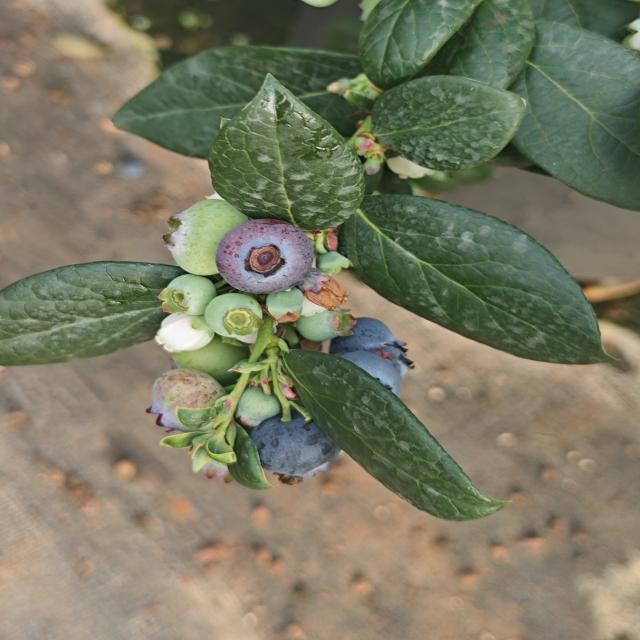ripe: (213, 218, 317, 296), (331, 318, 420, 401), (246, 411, 342, 481)
